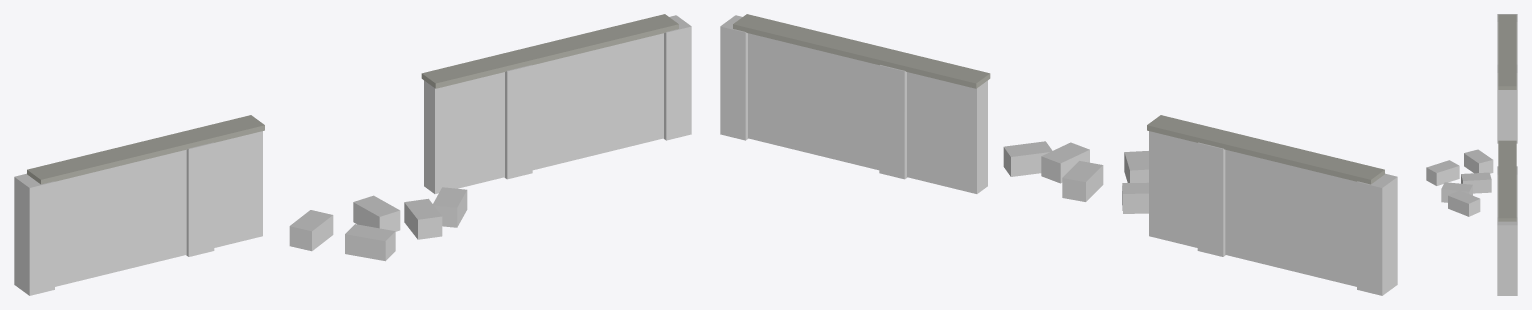
Rendered from SM_Tapia_v3_Derrumbada_LOD0.fbx.
3 views of the same model, side by side, from view 1: azimuth 30°, elevation 25°; view 2: azimuth 150°, elevation 25°; view 3: azimuth 270°, elevation 25° (orthographic). The views are drawn at different scales.
Visible parts, largest first — view 1: SM_huerta_nules_v8_LOD0; view 2: SM_huerta_nules_v8_LOD0; view 3: SM_huerta_nules_v8_LOD0.
Part boxes in pixels (x1,y1,x2,y2): SM_huerta_nules_v8_LOD0: [14, 14, 691, 295]; SM_huerta_nules_v8_LOD0: [720, 14, 1397, 295]; SM_huerta_nules_v8_LOD0: [1426, 14, 1517, 295].
Size of the model in its own units: 10.4 by 1.69 by 1.89.
